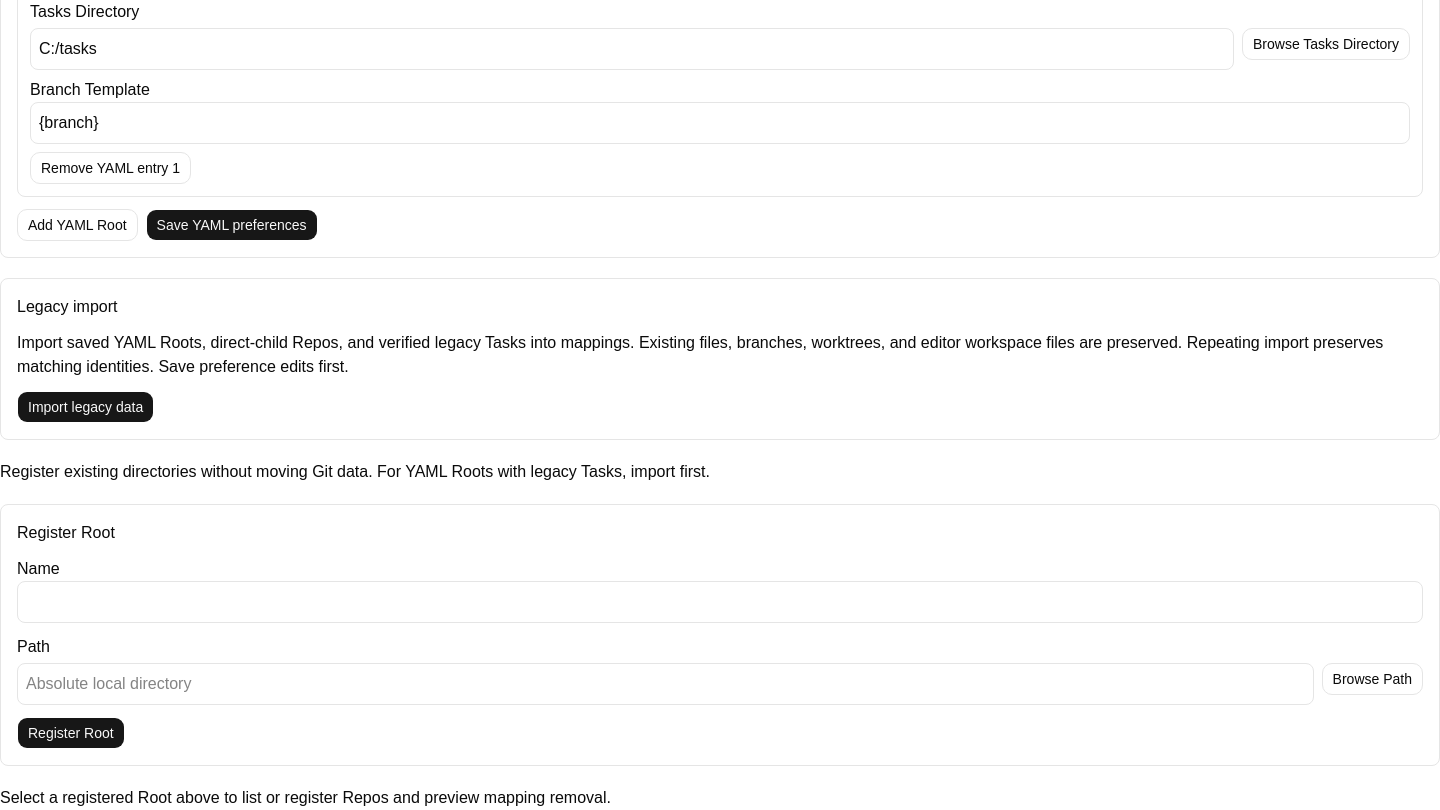
Test: keeps the selected registration path in FormData and resets it after a successful registration
(page scrolled)
Type "new root" into the field labelled "Name".
click(720, 602); type("new root")  # box [17,581,1423,623]
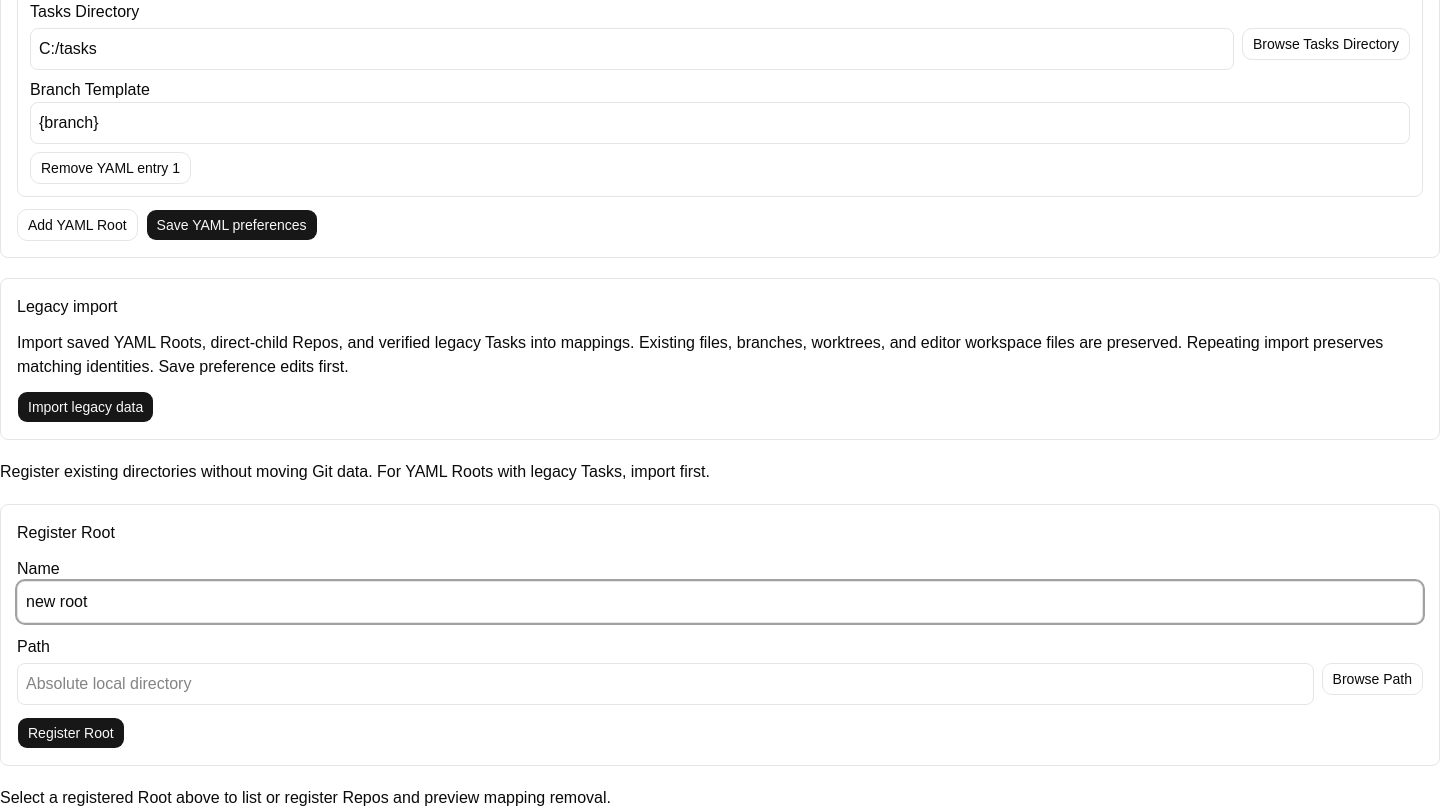
Click the button "Browse Path".
click(1372, 679)  # box [1322,663,1423,695]
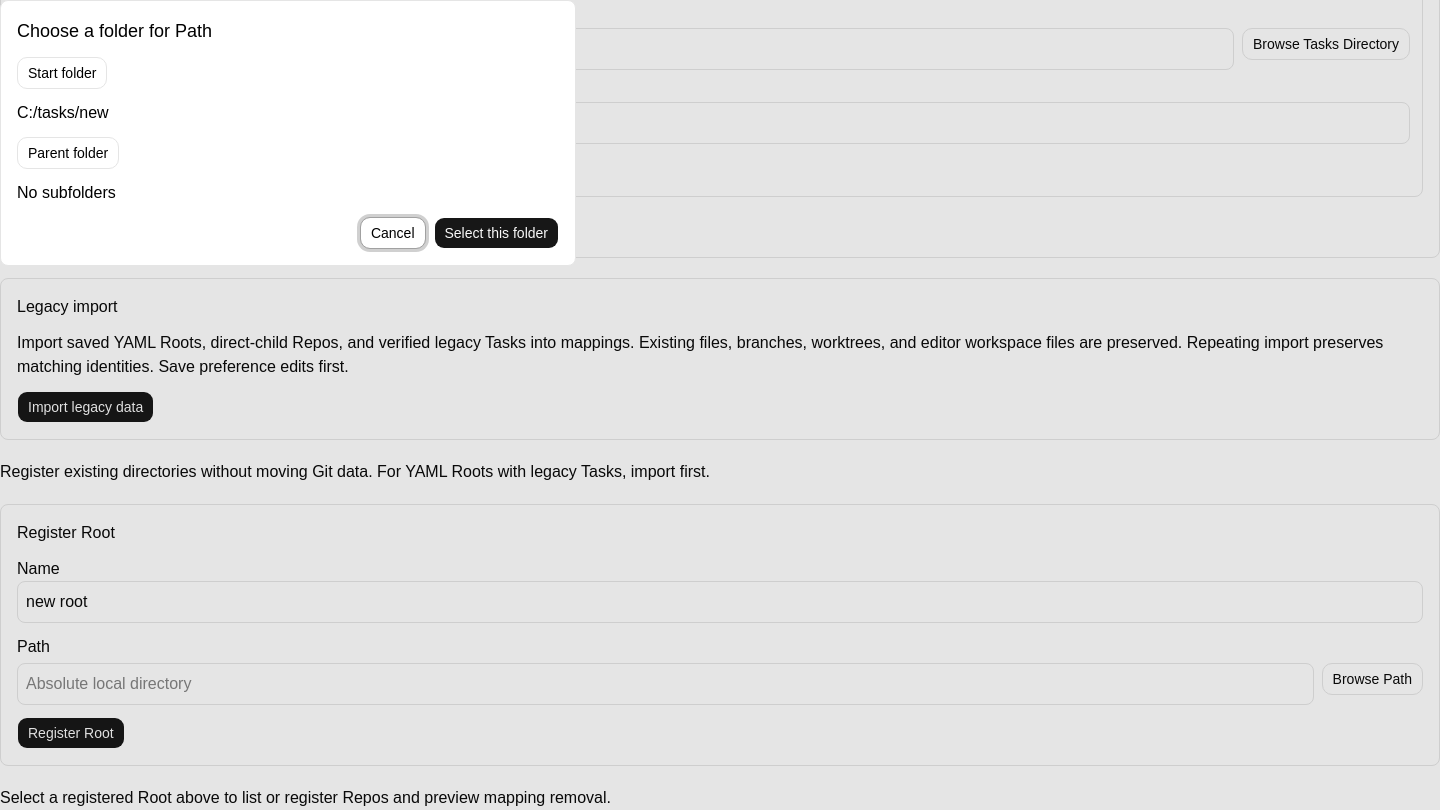
Expected: the button "Start folder" is shown, [17,57,108,89]
Click the button "Select this folder".
click(496, 233)  # box [434,217,559,249]
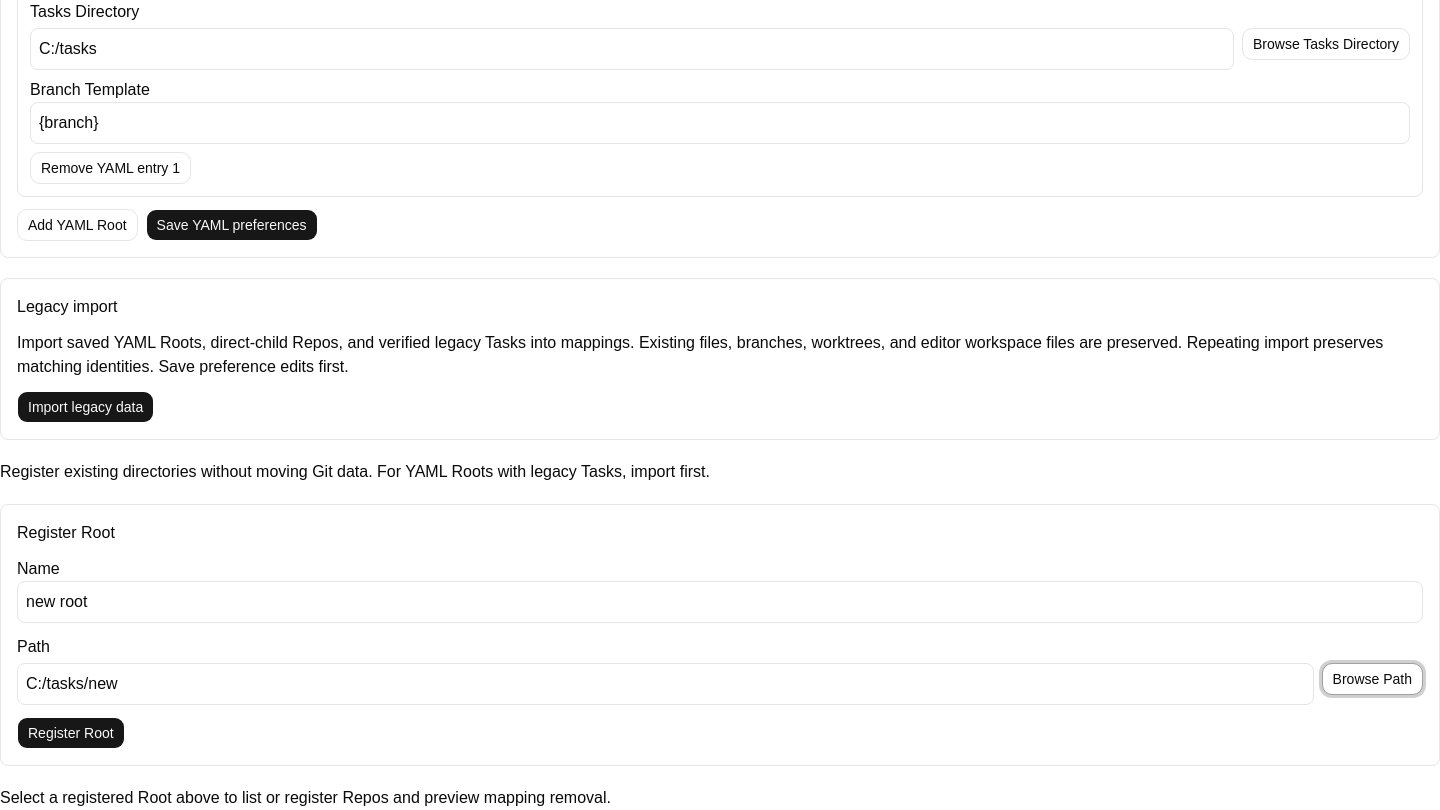
Expected: the field labelled "Path" holds "C:/tasks/new", [17,663,1314,705]
Click the button "Register Root".
click(71, 733)  # box [17,717,125,749]
(page scrolled)
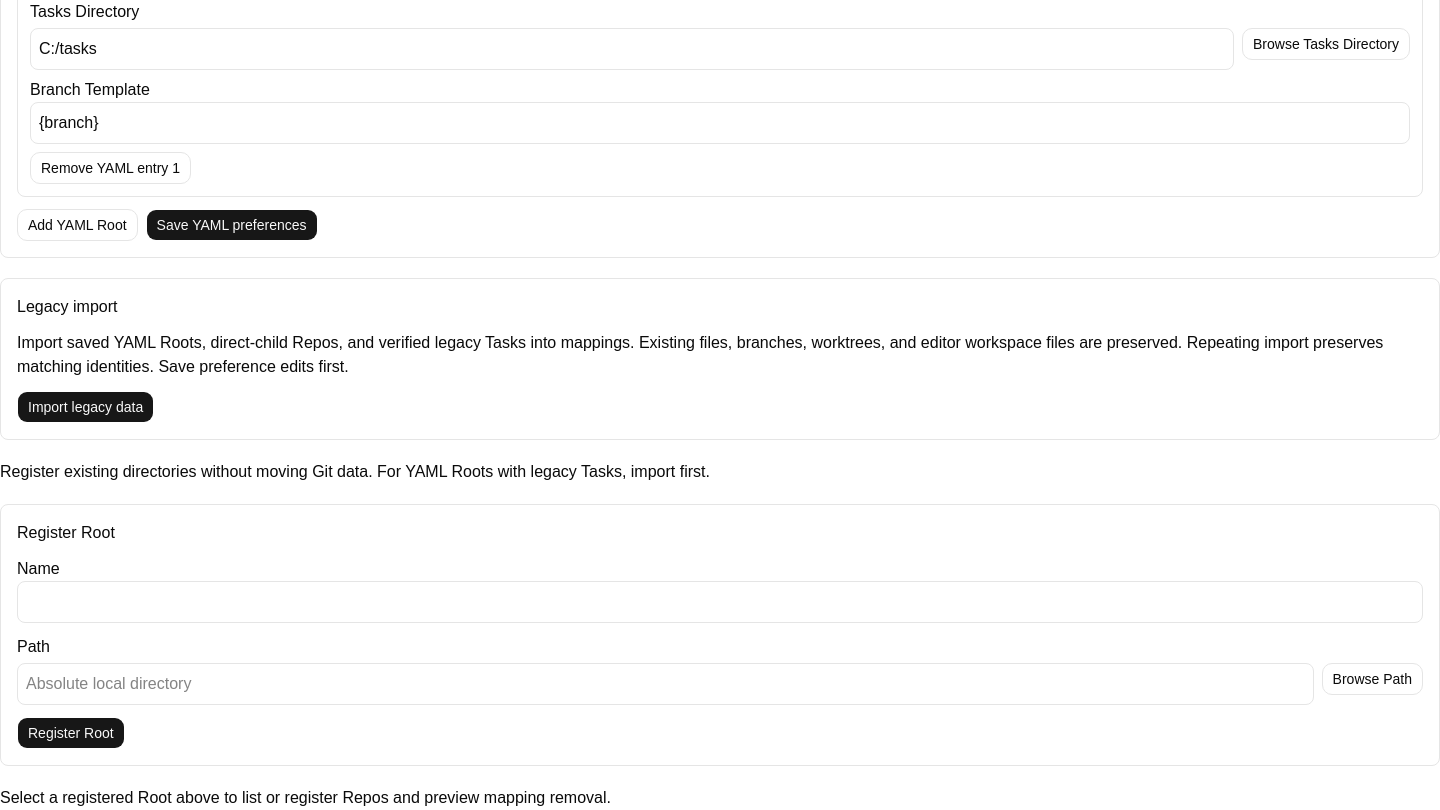
Expected: the field labelled "Path" is empty, [17,663,1314,705]
